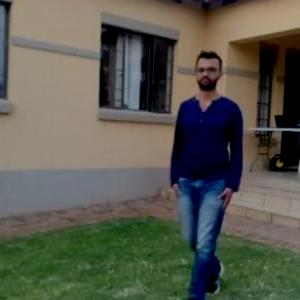follow: (168, 64, 238, 278)
